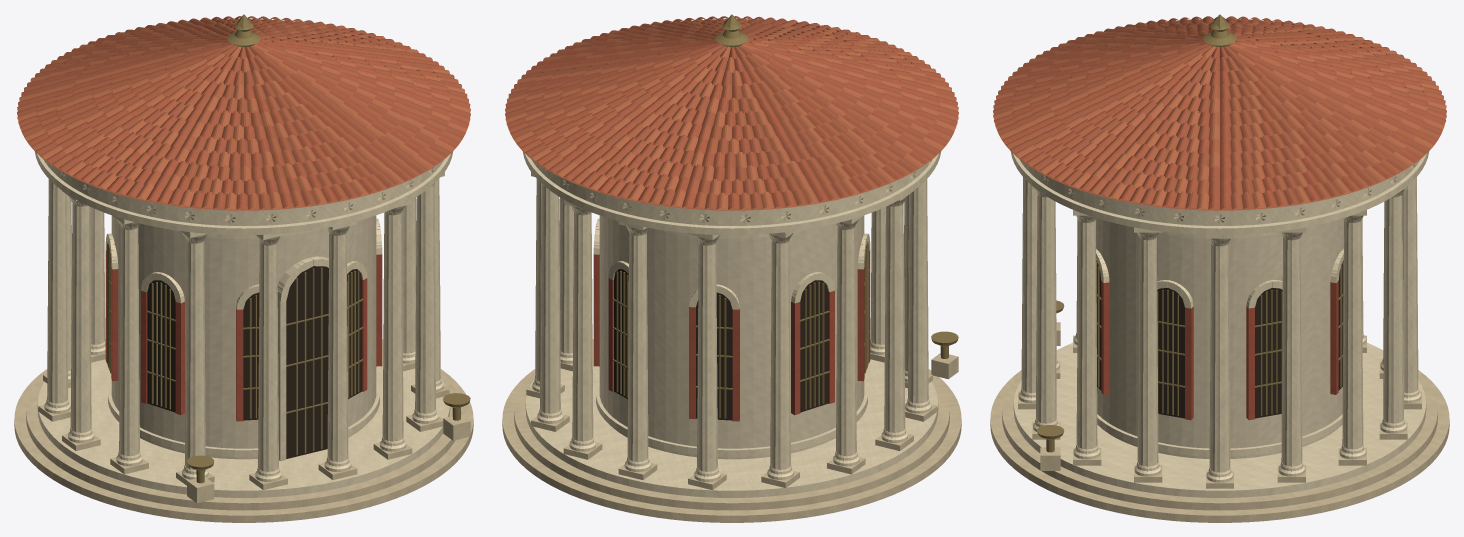
File: rundtempel.glb
3 views of the same model, side by side, from view 1: azimuth 30°, elevation 25°; view 2: azimuth 150°, elevation 25°; view 3: azimuth 270°, elevation 25° (orthographic).
Parts seen in each view (by area): view 1: Limestone_trim.005, Tile_2.005, Limewash.005, Tile_0.005, Tile_1.005, Tile_3.005, Limestone_trim.001, Travertine.005, Interior_shadow.005, Bronze.005, Limestone_trim.002, Travertine.001 (+4 smaller); view 2: Limestone_trim.005, Limewash.005, Tile_2.005, Tile_0.005, Tile_1.005, Tile_3.005, Limestone_trim.001, Travertine.005, Interior_shadow.005, Travertine.001, Bronze.005, Pompeian_red.005 (+3 smaller); view 3: Limestone_trim.005, Limewash.005, Tile_0.005, Tile_2.005, Tile_1.005, Tile_3.005, Limestone_trim.001, Travertine.005, Interior_shadow.005, Bronze.005, Travertine.001, Pompeian_red.005 (+3 smaller).
Part boxes in pixels (box(x1,y1,x2,y2)): Limestone_trim.005: box(35, 152, 452, 497); Tile_2.005: box(17, 16, 470, 210); Limewash.005: box(111, 215, 376, 460); Tile_0.005: box(18, 16, 470, 209); Tile_1.005: box(17, 16, 470, 209); Tile_3.005: box(17, 16, 470, 209); Limestone_trim.001: box(38, 154, 449, 490); Travertine.005: box(14, 158, 473, 522); Interior_shadow.005: box(108, 242, 361, 458); Bronze.005: box(106, 22, 470, 483); Limestone_trim.002: box(41, 157, 447, 489); Travertine.001: box(15, 353, 472, 515); Limestone_trim.005: box(523, 152, 940, 497); Limewash.005: box(599, 215, 864, 459); Tile_2.005: box(505, 16, 958, 210); Tile_0.005: box(505, 16, 957, 209); Tile_1.005: box(505, 16, 958, 209); Tile_3.005: box(505, 16, 958, 209); Limestone_trim.001: box(526, 154, 937, 490); Travertine.005: box(502, 160, 961, 522); Interior_shadow.005: box(614, 242, 867, 420); Travertine.001: box(503, 353, 960, 515); Bronze.005: box(612, 23, 958, 418); Pompeian_red.005: box(594, 250, 870, 420); Limestone_trim.005: box(1011, 152, 1428, 497); Limewash.005: box(1096, 218, 1343, 458); Tile_0.005: box(994, 17, 1445, 209); Tile_2.005: box(993, 16, 1446, 210); Tile_1.005: box(993, 16, 1446, 209); Tile_3.005: box(993, 16, 1446, 209); Limestone_trim.001: box(1014, 156, 1425, 490); Travertine.005: box(990, 163, 1449, 522); Interior_shadow.005: box(1096, 261, 1343, 418); Bronze.005: box(1036, 23, 1343, 452); Travertine.001: box(990, 322, 1449, 513); Pompeian_red.005: box(1101, 282, 1336, 419).
Size of the model in its own units: 14.9 by 14.75 by 14.9.
10 materials, 5 textured.
